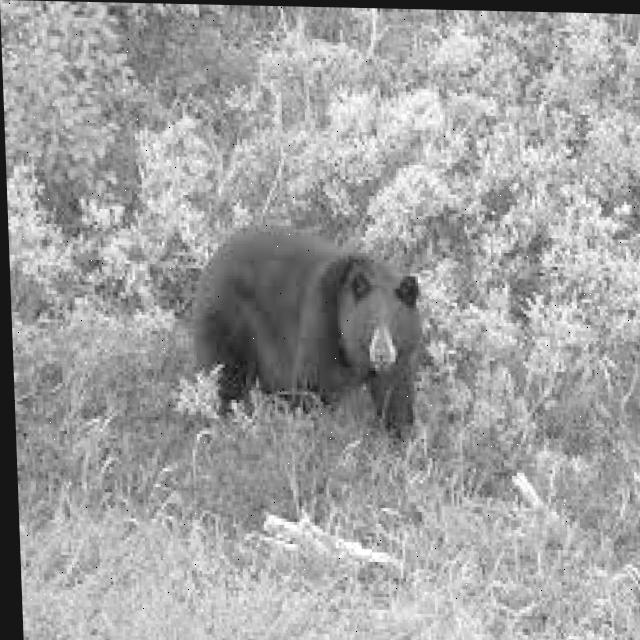Bear: (187, 221, 426, 452)
